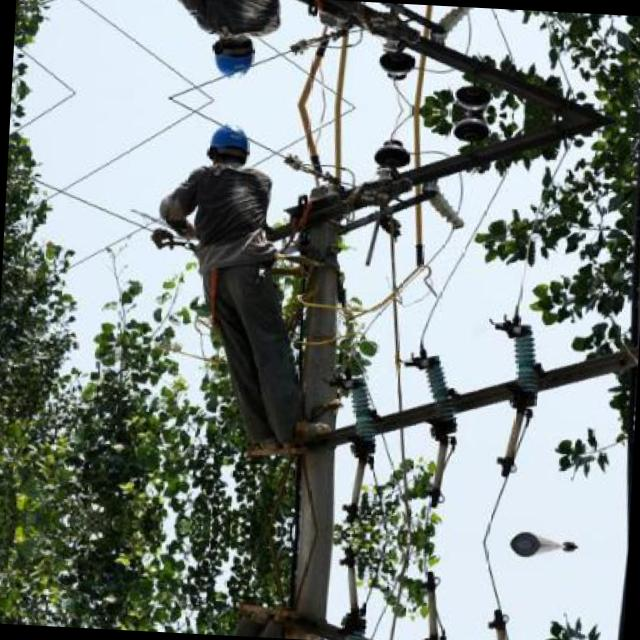helmet: (206, 30, 255, 83), (202, 120, 250, 172)
